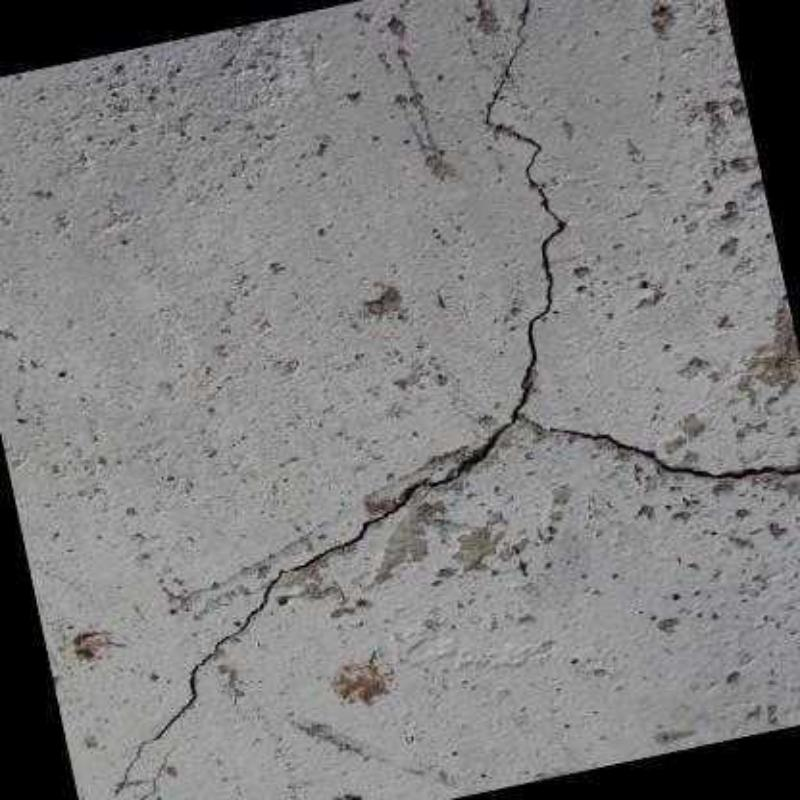pothole: (116, 1, 800, 795), (134, 750, 168, 798)
